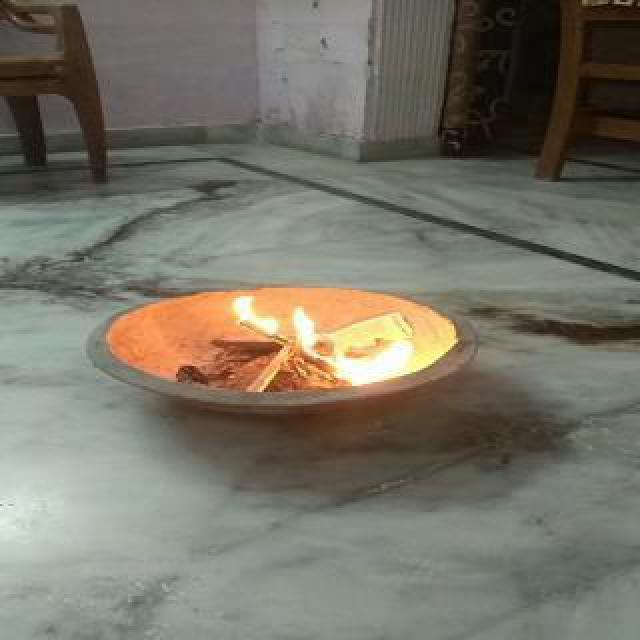Fire: (218, 286, 416, 394)
